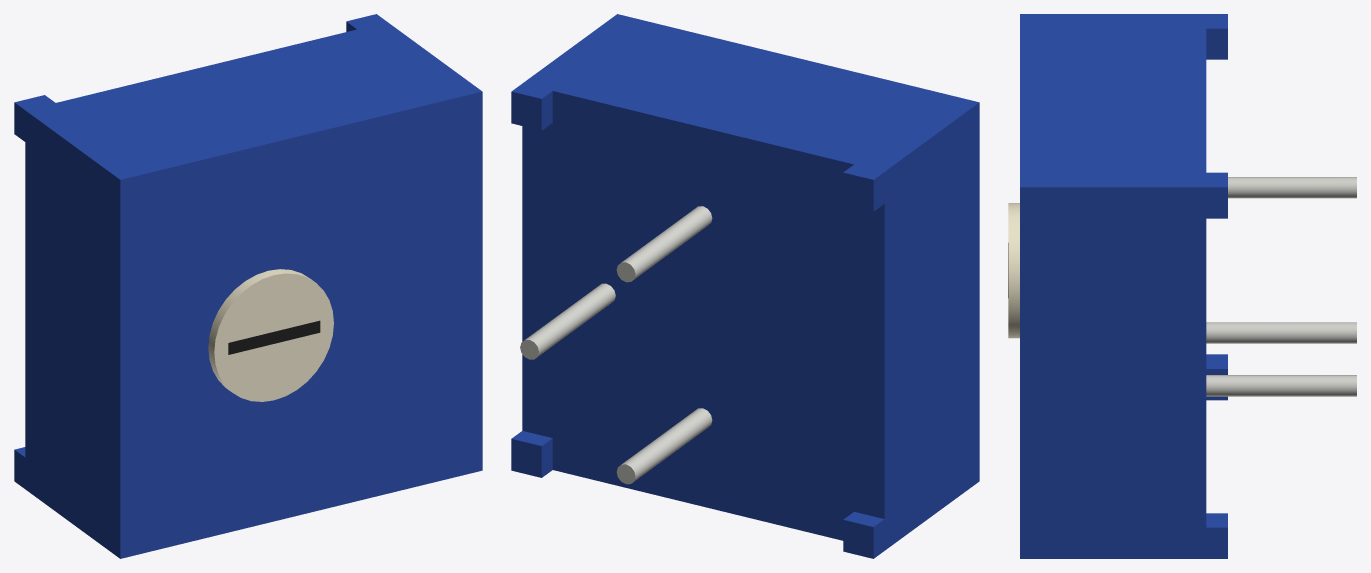
File: potentiometer_bourns_3386p_vertical.glb
3 views of the same model, side by side, from view 1: azimuth 30°, elevation 25°; view 2: azimuth 150°, elevation 25°; view 3: azimuth 270°, elevation 25° (orthographic).
Visible parts, largest first — view 1: Potentiometer_Bourns_3386P_Vertical; view 2: Potentiometer_Bourns_3386P_Vertical; view 3: Potentiometer_Bourns_3386P_Vertical.
Part boxes in pixels (x1,y1,x2,y2): Potentiometer_Bourns_3386P_Vertical: (14,14,482,558); Potentiometer_Bourns_3386P_Vertical: (511,14,979,558); Potentiometer_Bourns_3386P_Vertical: (1008,14,1356,558).
Bounding box in the file's own units: 9.53 × 9.53 × 8.11.
